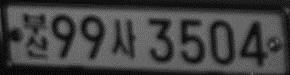0: (209, 19, 236, 65)
3: (148, 17, 174, 63)
4: (239, 20, 268, 65)
5: (180, 17, 206, 64)
9: (51, 13, 77, 59), (80, 14, 106, 60)
부산_V: (22, 12, 49, 59)
사: (111, 19, 137, 58)
